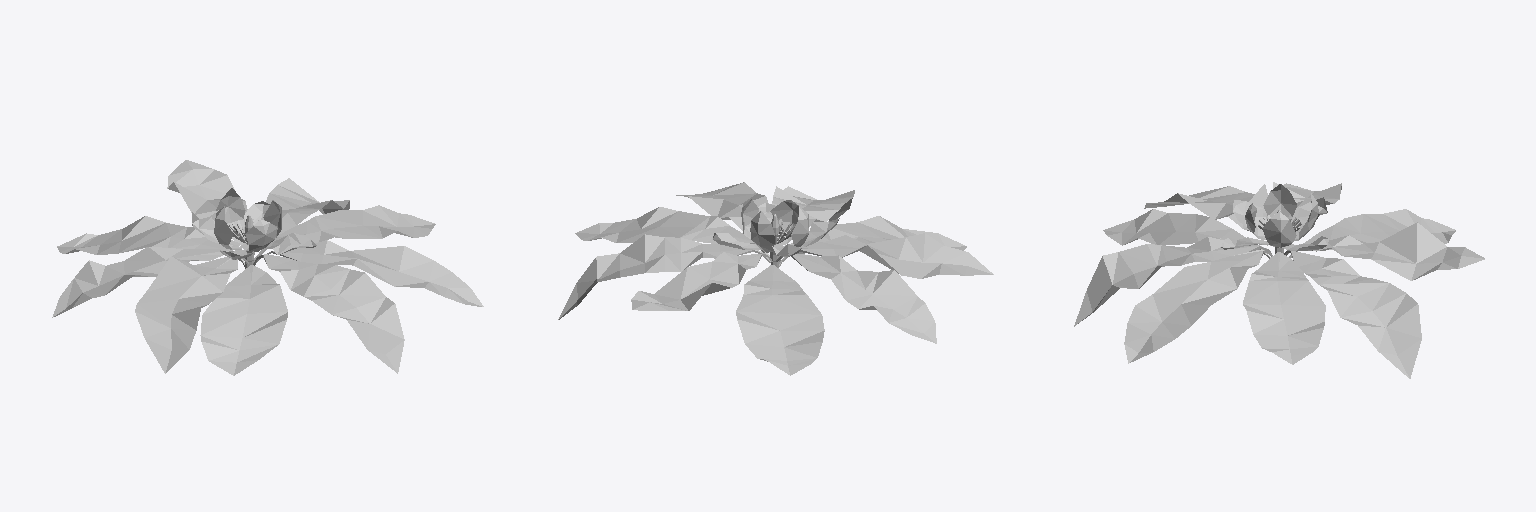
The model's file is magnolia.obj.
3 views of the same model, side by side, from view 1: azimuth 30°, elevation 25°; view 2: azimuth 150°, elevation 25°; view 3: azimuth 270°, elevation 25° (orthographic).
Visible parts, largest first — view 1: lf2x2, lf6x3, lf8x2, lf3x3, lf4x3, lf1x2, lf9x2, lf7x3, lf5x3, pt1bx2, pt1ax, pt1dx2; view 2: lf9x2, lf4x3, lf5x3, lf8x2, lf1x2, lf7x3, lf2x2, lf3x3, lf6x3, pt1bx, pt1ax2; view 3: lf5x3, lf3x3, lf1x2, lf6x3, lf7x3, lf2x2, lf9x2, lf8x2, pt2ax, lf4x3, pt2cx2.
Boxes of the visible parts, <box> form: lf2x2: <box>200,265,287,375</box>; lf6x3: <box>257,254,404,373</box>; lf8x2: <box>135,256,237,373</box>; lf3x3: <box>253,240,483,306</box>; lf4x3: <box>52,247,231,317</box>; lf1x2: <box>254,205,435,259</box>; lf9x2: <box>57,216,244,264</box>; lf7x3: <box>167,160,247,224</box>; lf5x3: <box>254,178,349,252</box>; pt1bx2: <box>216,188,246,244</box>; pt1ax: <box>245,219,277,251</box>; pt1dx2: <box>264,233,316,254</box>; lf9x2: <box>736,265,824,375</box>; lf4x3: <box>793,254,936,343</box>; lf5x3: <box>558,234,770,319</box>; lf8x2: <box>801,233,993,278</box>; lf1x2: <box>575,207,769,256</box>; lf7x3: <box>631,252,766,310</box>; lf2x2: <box>779,216,966,265</box>; lf3x3: <box>676,182,768,230</box>; lf6x3: <box>772,186,854,226</box>; pt1bx: <box>750,211,774,252</box>; pt1ax2: <box>770,200,798,244</box>; lf5x3: <box>1291,251,1421,378</box>; lf3x3: <box>1124,249,1264,363</box>; lf1x2: <box>1243,252,1325,364</box>; lf6x3: <box>1074,237,1266,326</box>; lf7x3: <box>1299,222,1484,280</box>; lf2x2: <box>1103,209,1270,257</box>; lf9x2: <box>1289,209,1455,257</box>; lf8x2: <box>1178,184,1268,230</box>; pt2ax: <box>1262,211,1296,247</box>; lf4x3: <box>1273,182,1341,222</box>; pt2cx2: <box>1263,184,1296,220</box>.
Size of the model in its own units: 162 by 49.04 by 155.